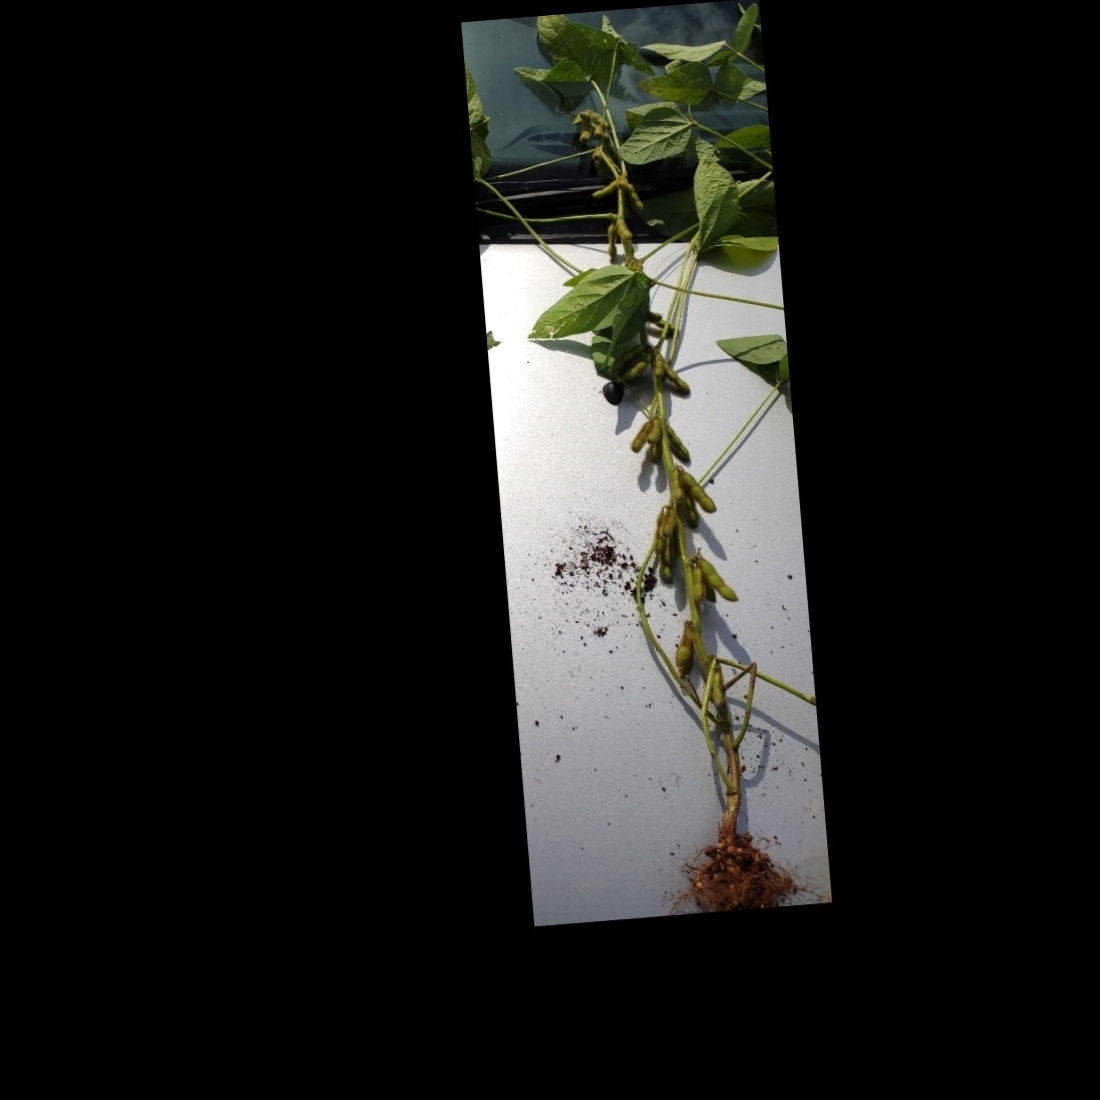pod: (673, 464, 718, 518), (697, 552, 741, 606), (613, 352, 657, 387), (606, 342, 652, 375), (666, 423, 701, 464), (669, 622, 698, 670), (655, 532, 677, 587), (626, 416, 657, 455), (658, 359, 691, 395), (621, 177, 647, 218), (657, 502, 680, 541), (668, 459, 687, 507), (587, 175, 622, 200), (641, 416, 664, 449), (610, 211, 633, 245), (601, 223, 618, 264), (649, 345, 666, 381)
soy: (472, 32, 821, 912)
